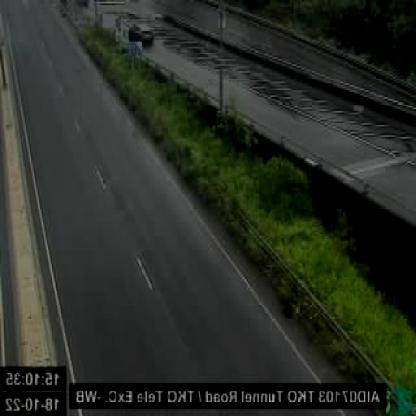Car: (128, 20, 154, 48)
